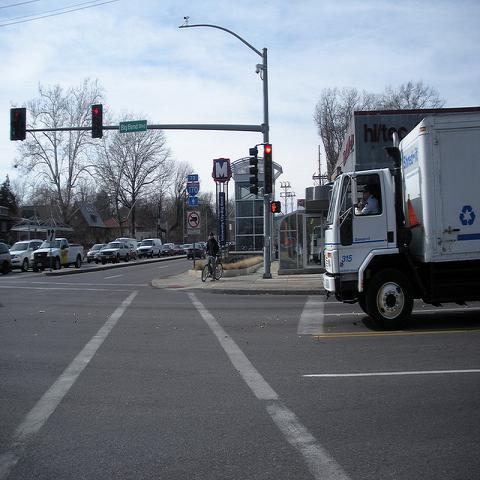car: (9, 238, 44, 272), (138, 238, 163, 259), (87, 243, 106, 264), (0, 243, 12, 274), (186, 242, 206, 260), (69, 244, 85, 260), (160, 245, 174, 257), (173, 245, 184, 256), (184, 243, 192, 254), (137, 242, 141, 253)
truck: (317, 119, 479, 328), (30, 236, 86, 273), (100, 241, 130, 265)
